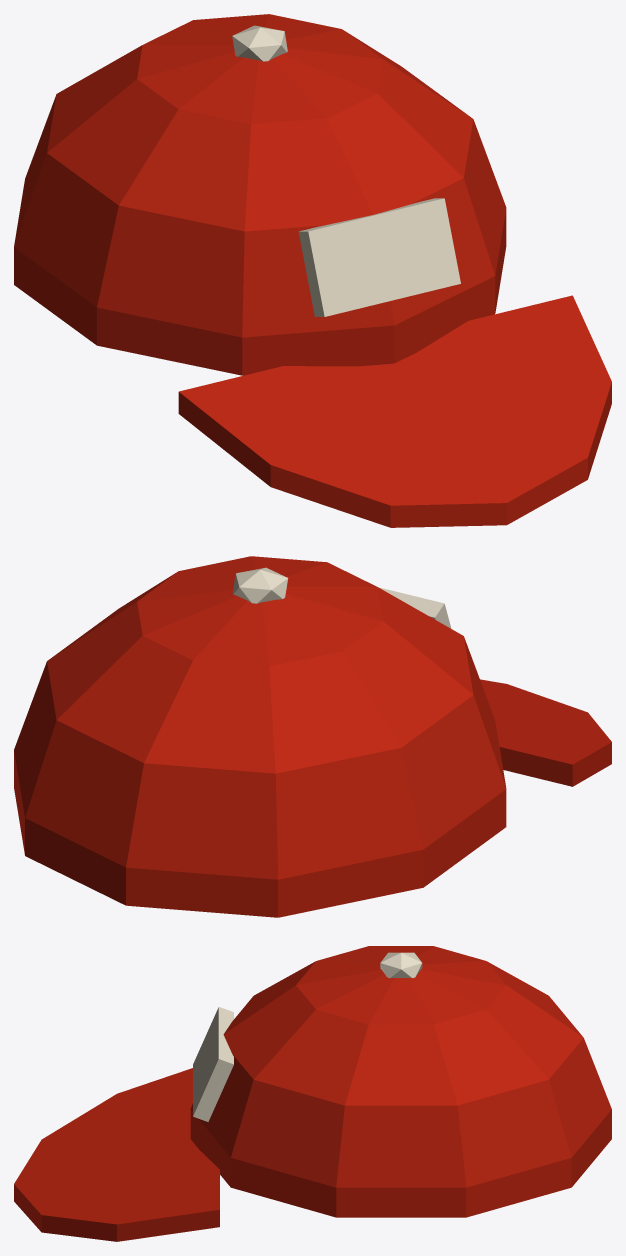
File: cgt-cap.glb
3 renders of one model, top to bottom at view 1: azimuth 30°, elevation 25°; view 2: azimuth 150°, elevation 25°; view 3: azimuth 270°, elevation 25°, orthographic. The views are drawn at different scales.
Visible parts, largest first — view 1: cgt-cap; view 2: cgt-cap; view 3: cgt-cap.
Boxes of the visible parts, x1,y1,x2,y2 form: cgt-cap: [14, 14, 611, 527]; cgt-cap: [14, 556, 611, 917]; cgt-cap: [14, 946, 611, 1241].
Size of the model in its own units: 0.2701 by 0.1998 by 0.4352.
Materials: 1 (1 with a texture image).
